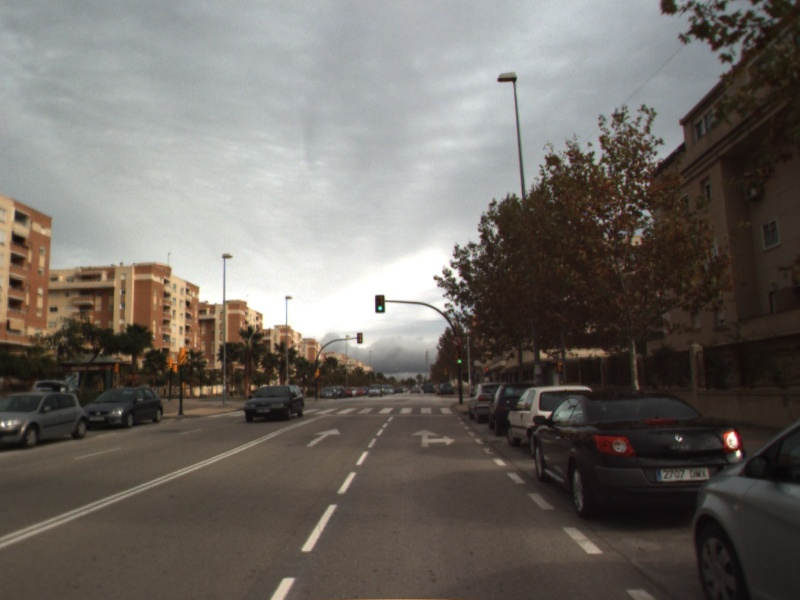STRAIGHT: (304, 426, 343, 449)
STRAIGHT_RIGHT: (409, 427, 457, 449)
